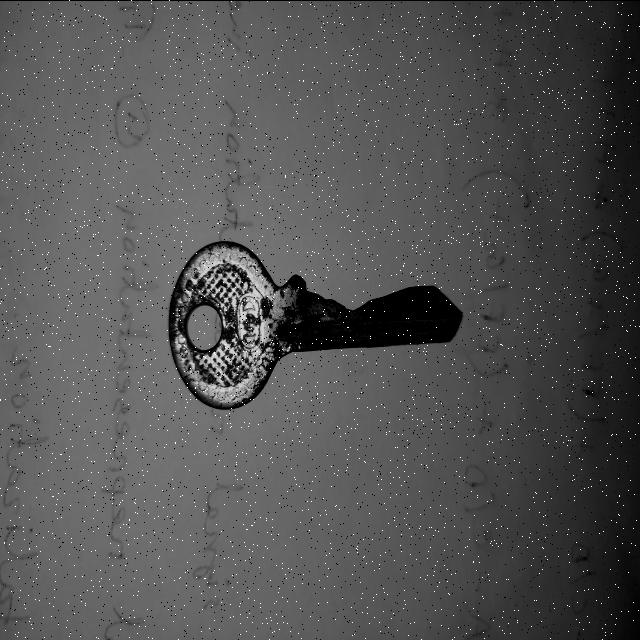key: (168, 241, 462, 409)
